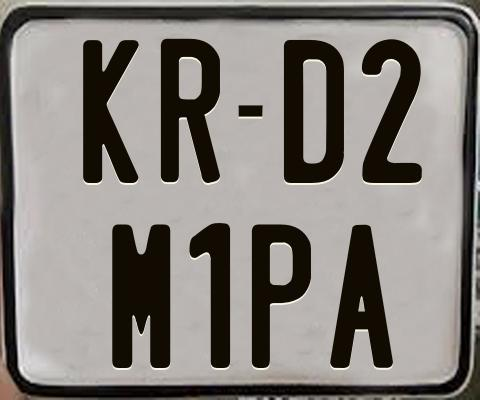1: (186, 222, 231, 370)
2: (362, 37, 426, 184)
A: (329, 223, 395, 369)
D: (283, 37, 343, 180)
K: (80, 40, 141, 183)
M: (111, 222, 171, 372)
P: (251, 221, 316, 371)
R: (159, 39, 219, 185)
